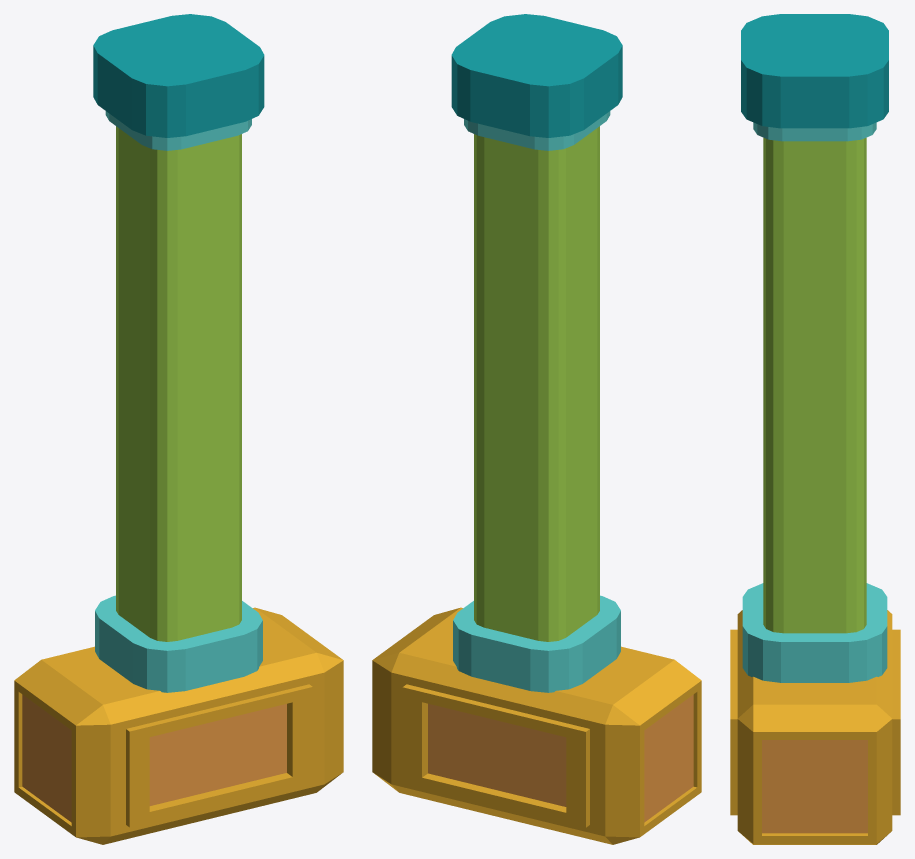
The model's file is Hammer.fbx.
The picture shows the model from 3 angles, left to right: view 1: azimuth 30°, elevation 25°; view 2: azimuth 150°, elevation 25°; view 3: azimuth 270°, elevation 25°; orthographic projection.
Parts seen in each view (by area): view 1: Hammer; view 2: Hammer; view 3: Hammer.
Part boxes in pixels (x1=…): Hammer: x1=14, y1=14, x2=343, y2=844; Hammer: x1=372, y1=14, x2=701, y2=844; Hammer: x1=730, y1=14, x2=900, y2=844.
Bounding box in the file's own units: 300 × 799 × 165.
